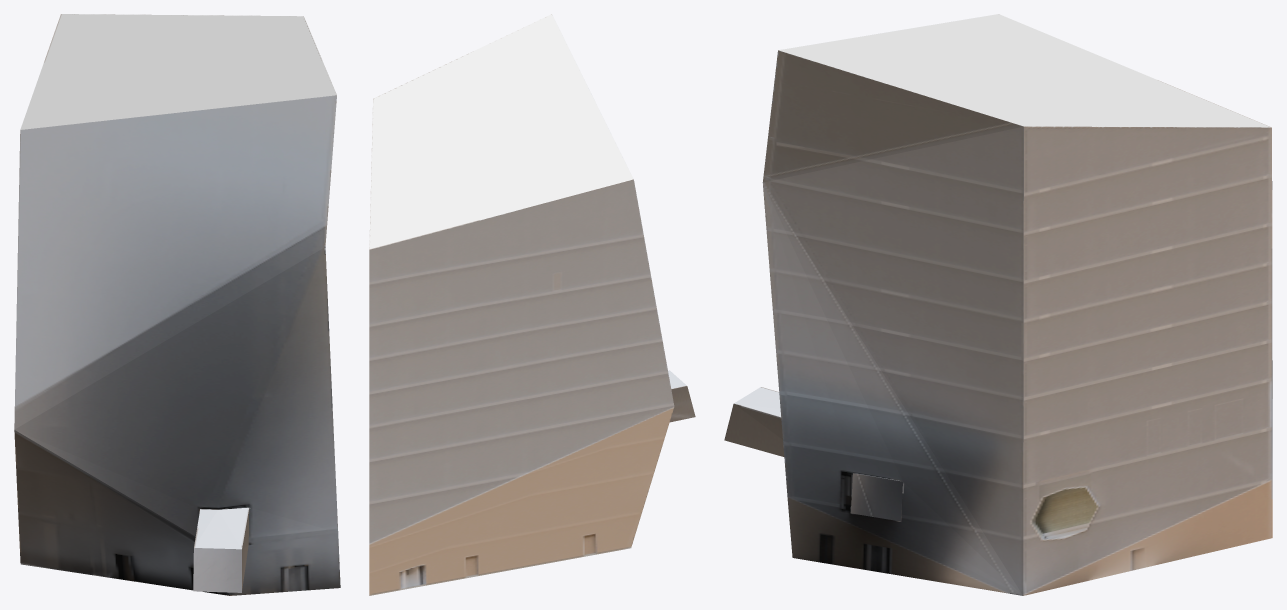
3 views of the same model, side by side, from view 1: azimuth 30°, elevation 25°; view 2: azimuth 150°, elevation 25°; view 3: azimuth 270°, elevation 25° (orthographic). The views are drawn at different scales.
Visible parts, largest first — view 1: 210.B.001; view 2: 210.B.001; view 3: 210.B.001.
Part boxes in pixels (x1=…): 210.B.001: x1=14, y1=14, x2=340, y2=595; 210.B.001: x1=369, y1=14, x2=695, y2=595; 210.B.001: x1=724, y1=14, x2=1272, y2=595.
Size of the model in its own units: 36.84 by 54.58 by 53.97.
1 material, 1 textured.
